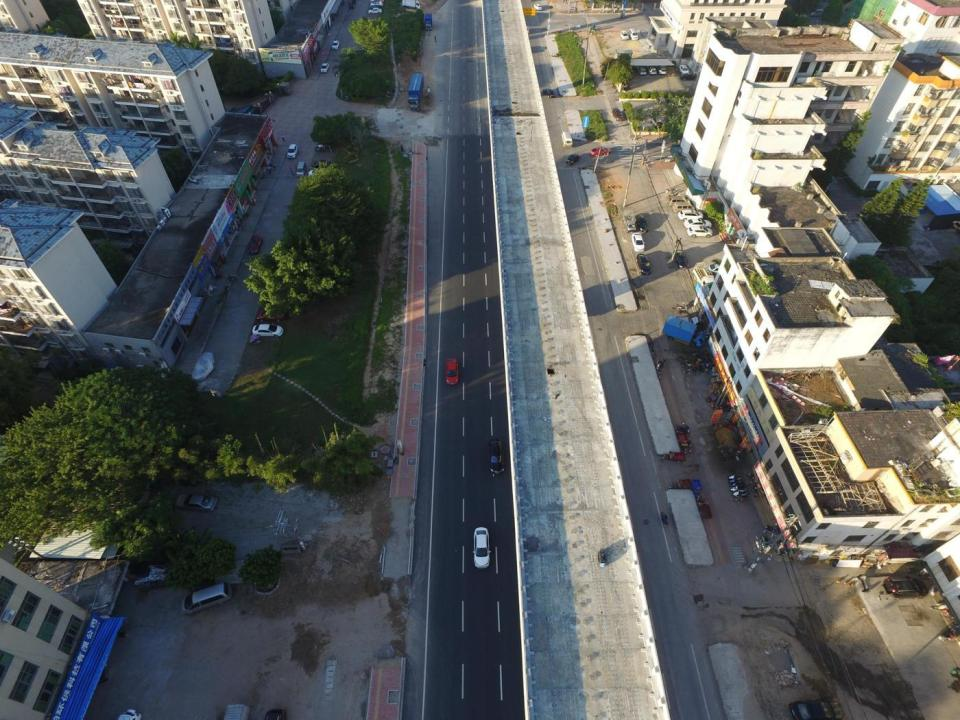car: (787, 696, 846, 720), (880, 576, 928, 600), (170, 492, 218, 513), (471, 525, 492, 569), (188, 350, 214, 380), (486, 434, 505, 474), (442, 358, 460, 386), (251, 324, 282, 339), (635, 252, 652, 276), (683, 217, 712, 230), (687, 225, 713, 239), (673, 248, 689, 270), (629, 232, 646, 252), (704, 262, 728, 276), (246, 231, 260, 254), (678, 208, 702, 221), (308, 167, 331, 180), (635, 214, 649, 232), (310, 159, 334, 169), (589, 147, 612, 156), (565, 154, 582, 165), (611, 107, 624, 121), (287, 143, 298, 159), (680, 71, 696, 81), (543, 88, 556, 98), (636, 64, 647, 75), (647, 63, 657, 75), (320, 61, 329, 73), (331, 38, 340, 49), (657, 63, 666, 74), (620, 30, 629, 41), (679, 64, 688, 74), (367, 5, 382, 11), (368, 8, 381, 14), (370, 1, 383, 7), (533, 3, 542, 11)
truck: (661, 313, 705, 348), (406, 73, 426, 111), (624, 209, 636, 232), (401, 0, 421, 10), (423, 12, 434, 30)
van: (179, 581, 232, 616), (672, 201, 695, 214), (666, 196, 690, 206), (560, 131, 573, 148), (294, 160, 306, 176), (628, 28, 639, 41)
